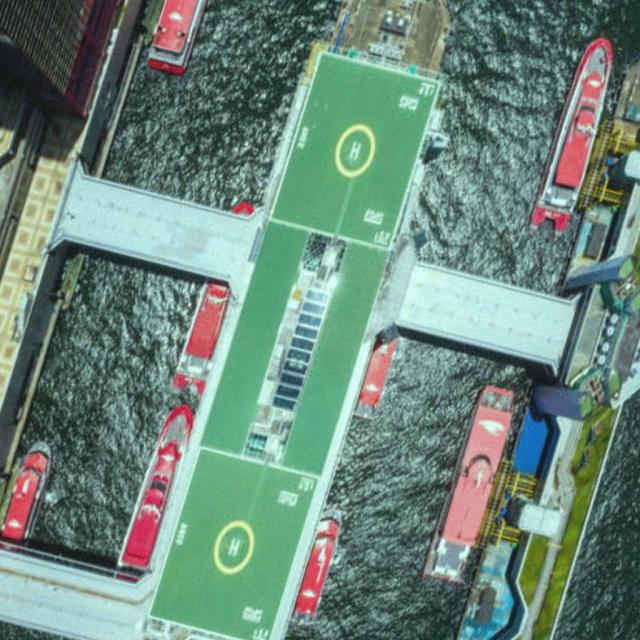helipad: (211, 516, 258, 576), (332, 120, 377, 179)
